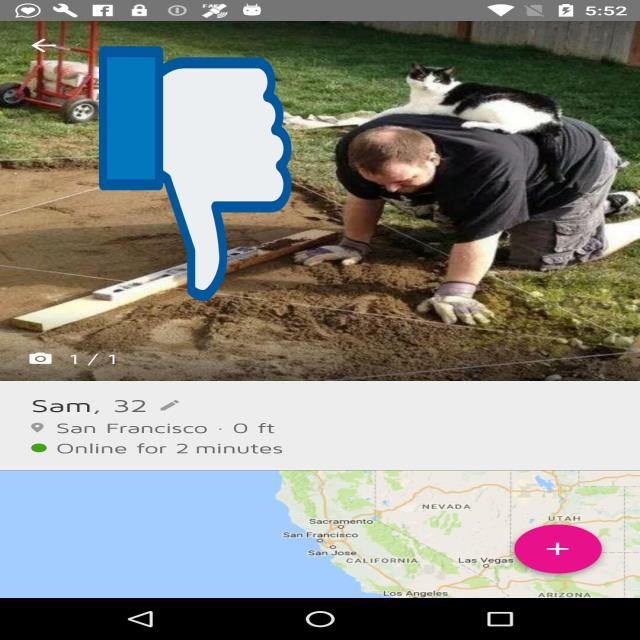obstruction: (99, 41, 292, 306)
